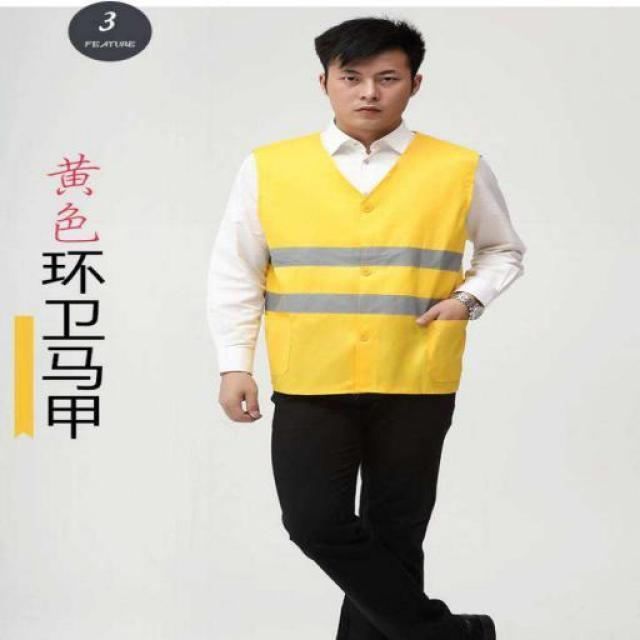Person: (191, 7, 547, 640)
Vest: (256, 131, 472, 400)
